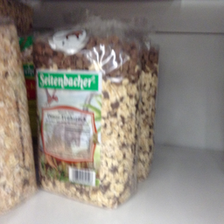cereal: (37, 27, 141, 208)
